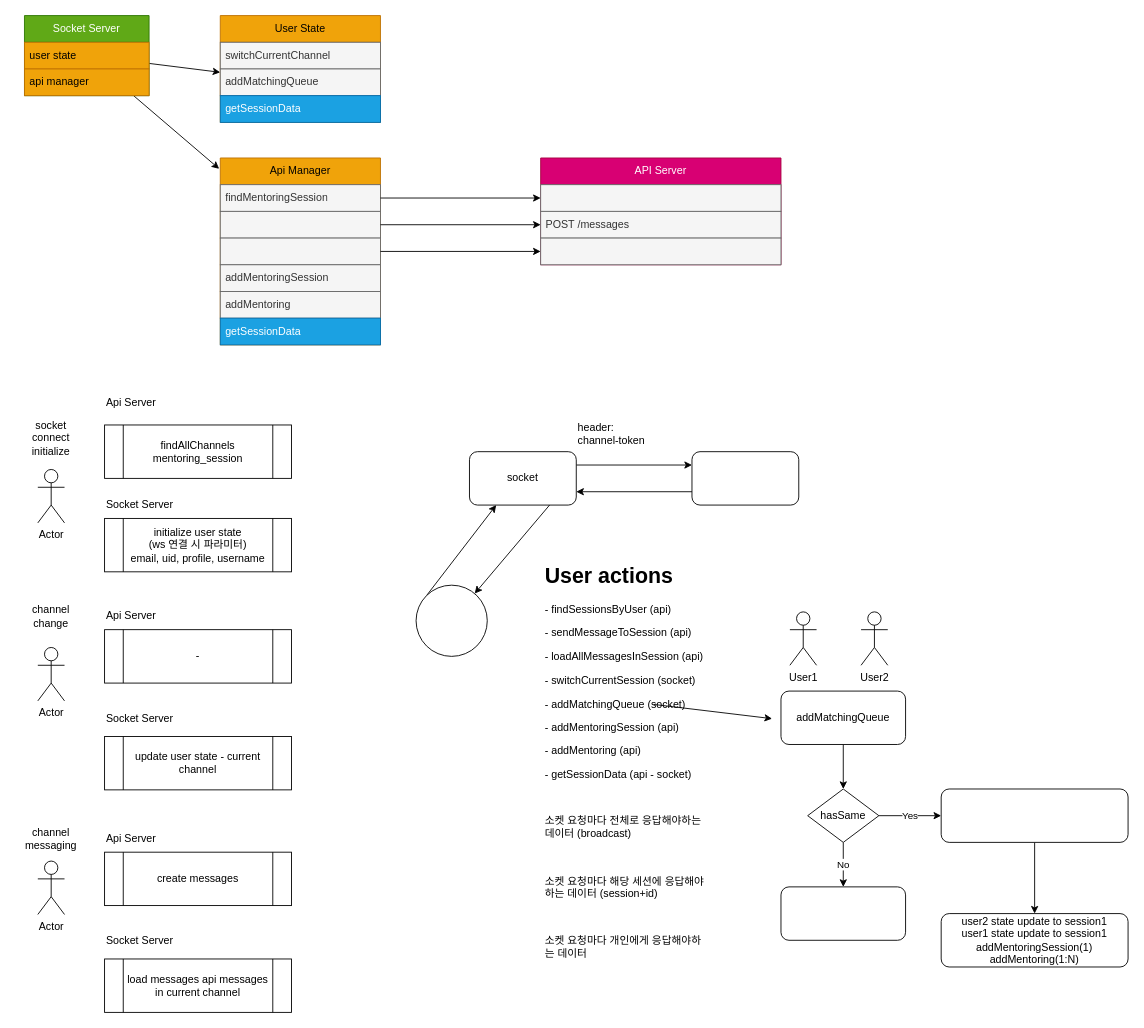
Image size: 1144x1028. Some labels were removed from this diagram. Here are the shapes that lost their labels. From the top down, the centre of each, then its label:
the point at 660,197: GET /mentoring-session/users
the point at 299,224: sendMessageToSession
the point at 299,251: findMesagesInSession
the point at 660,251: GET /messages/session/:mentoring_session_id
the point at 745,478: api
the point at 451,620: client
the point at 1034,815: shiftQueue = user
the point at 843,913: addQueue(type, user_id)
